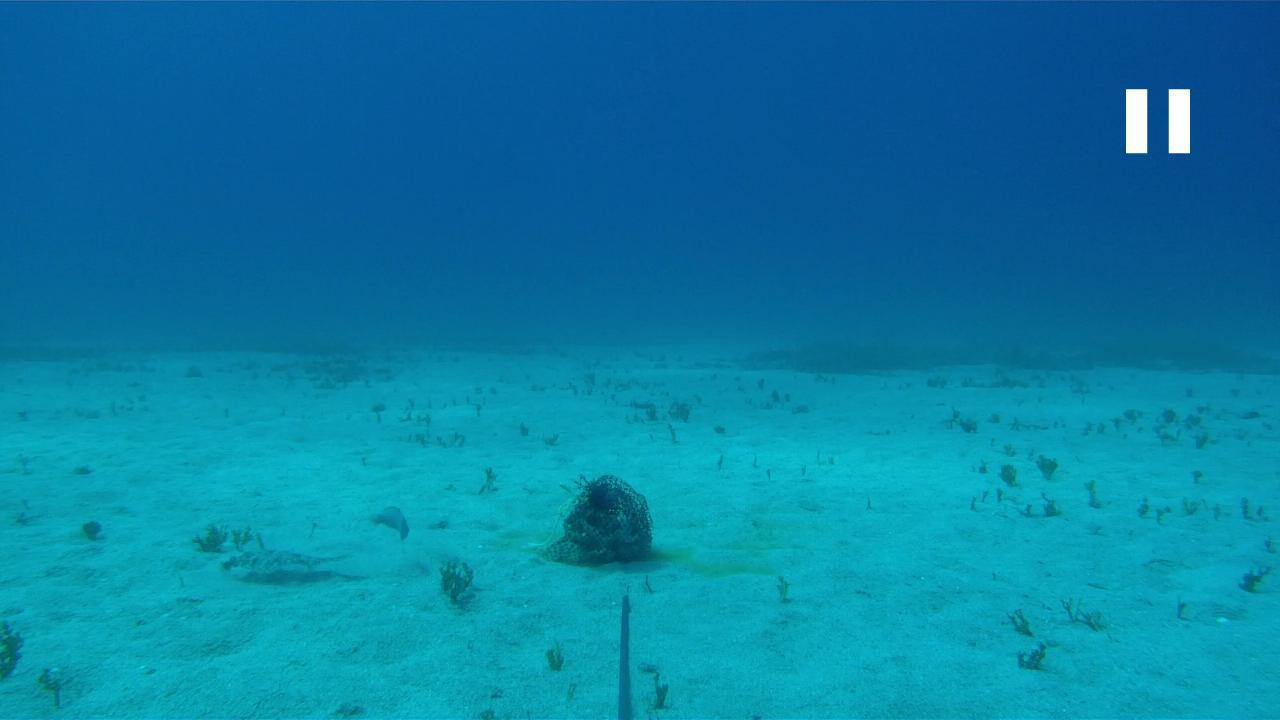bothus: (209, 543, 353, 574)
